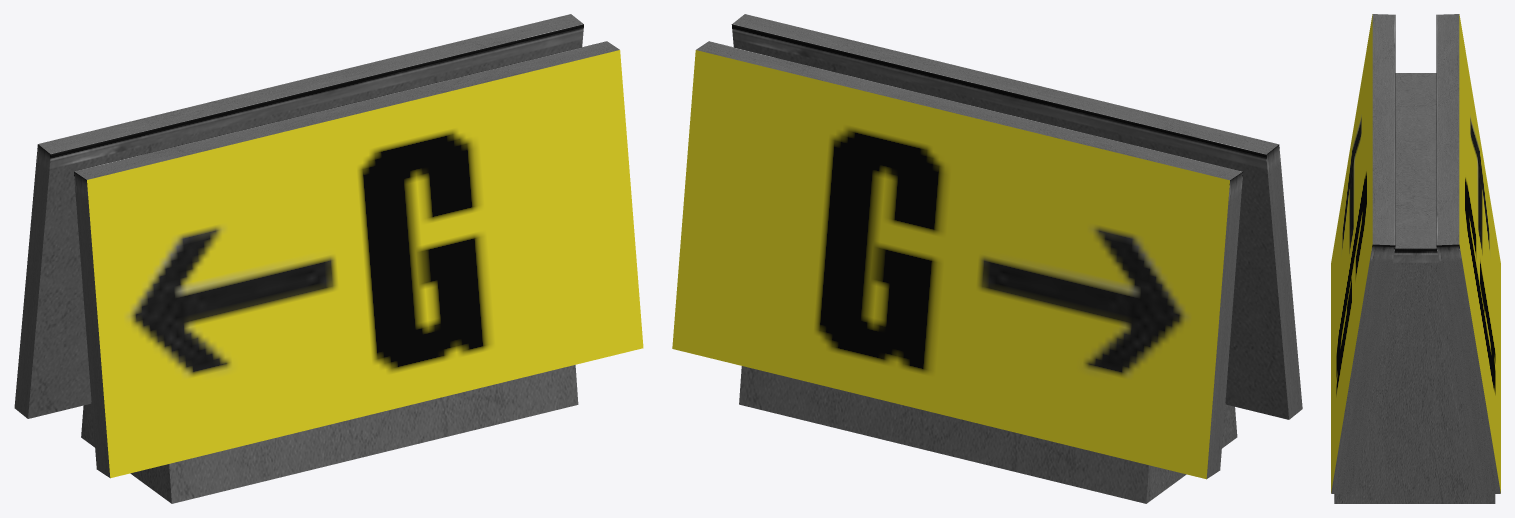
The model's file is signpit_b.FBX.
3 views of the same model, side by side, from view 1: azimuth 30°, elevation 25°; view 2: azimuth 150°, elevation 25°; view 3: azimuth 270°, elevation 25° (orthographic). The views are drawn at different scales.
Parts seen in each view (by area): view 1: signpit_b; view 2: signpit_b; view 3: signpit_b.
Part boxes in pixels (x1=…): signpit_b: x1=14, y1=14, x2=643, y2=503; signpit_b: x1=672, y1=14, x2=1302, y2=503; signpit_b: x1=1331, y1=14, x2=1500, y2=503.
Size of the model in its own units: 6.03 by 3.5 by 1.88.
